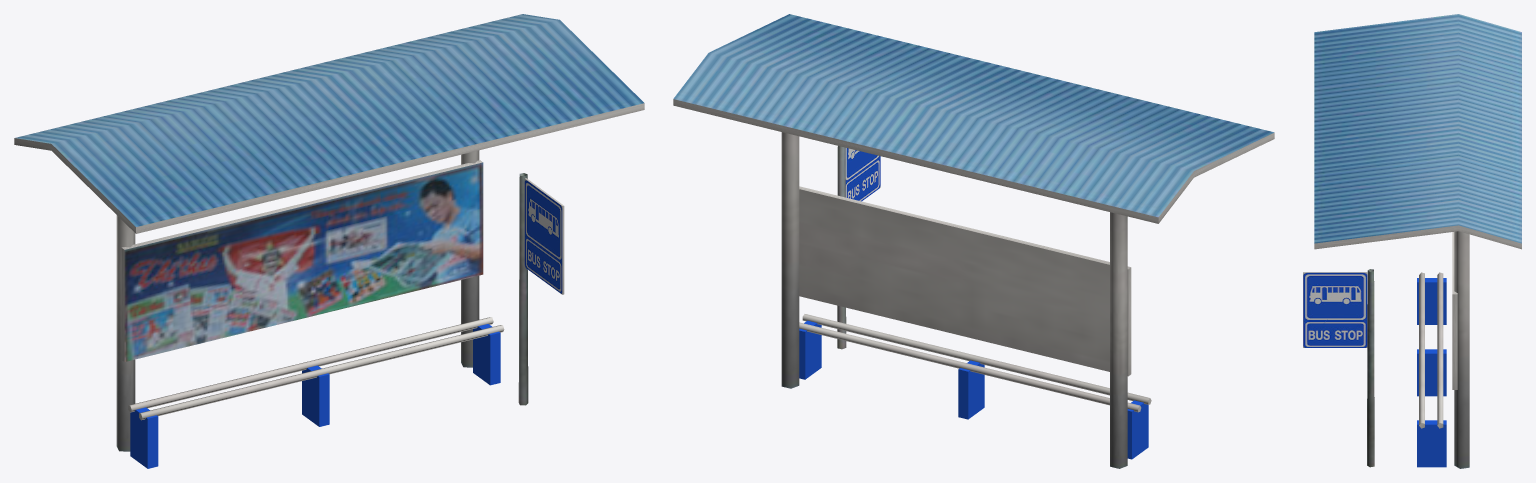
3 renders of one model, left to right at view 1: azimuth 30°, elevation 25°; view 2: azimuth 150°, elevation 25°; view 3: azimuth 270°, elevation 25°, orthographic. The views are drawn at different scales.
Parts seen in each view (by area): view 1: 5c46ca9f5b570fbd88fdd1ea.001; view 2: 5c46ca9f5b570fbd88fdd1ea.001; view 3: 5c46ca9f5b570fbd88fdd1ea.001.
Boxes of the visible parts, left/top/right/bottom form: 5c46ca9f5b570fbd88fdd1ea.001: left=14, top=14, right=644, bottom=468; 5c46ca9f5b570fbd88fdd1ea.001: left=673, top=14, right=1274, bottom=468; 5c46ca9f5b570fbd88fdd1ea.001: left=1303, top=14, right=1521, bottom=468.
Size of the model in its own units: 7.23 by 4.42 by 3.16.
Materials: 1 (1 with a texture image).
